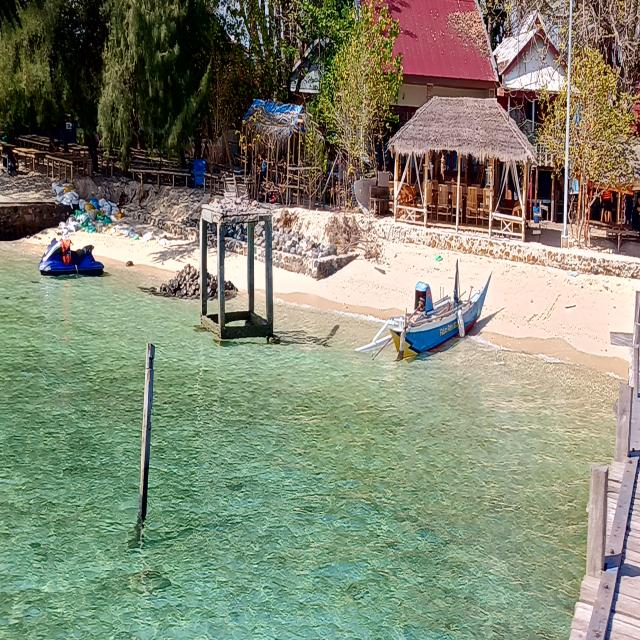Fishing Boat: (348, 244, 517, 388), (21, 189, 114, 302)
